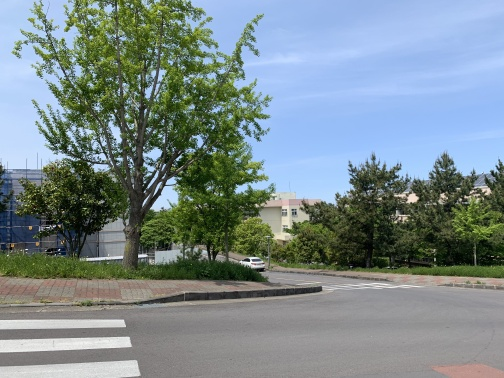College Of Education: (252, 182, 328, 247)
